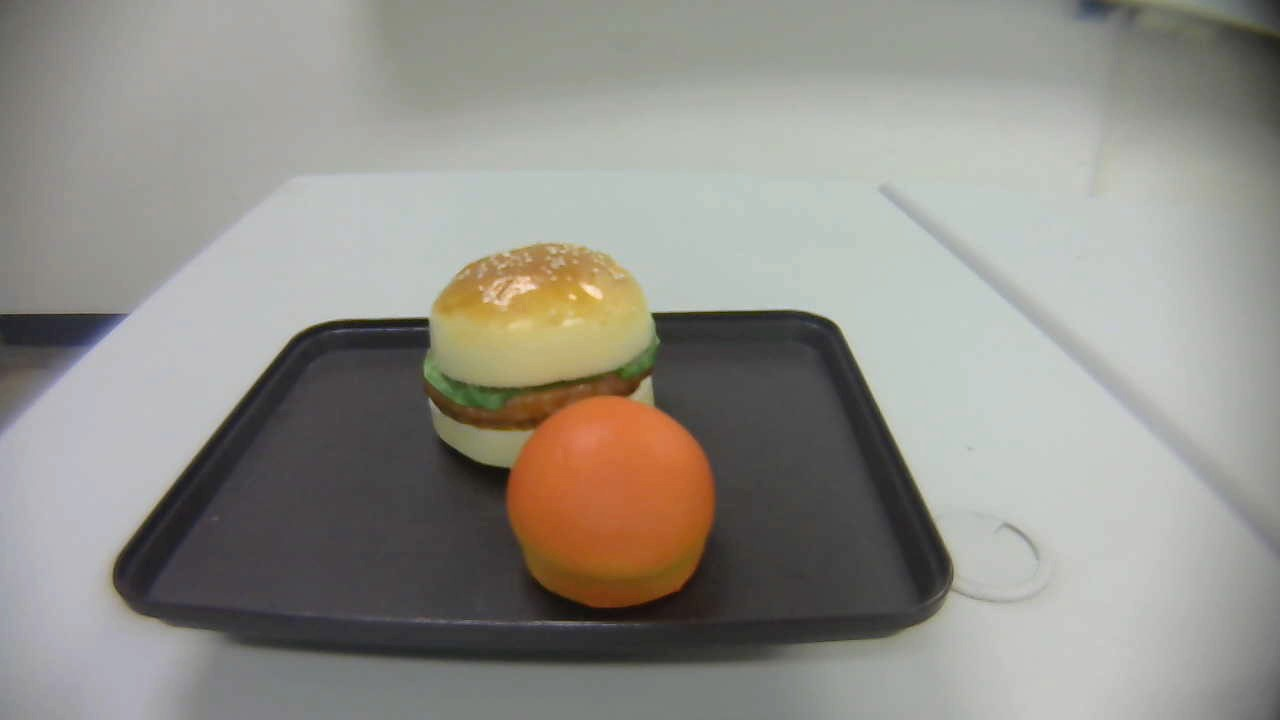bun: (505, 397, 717, 608)
hamburger: (424, 242, 659, 470)
